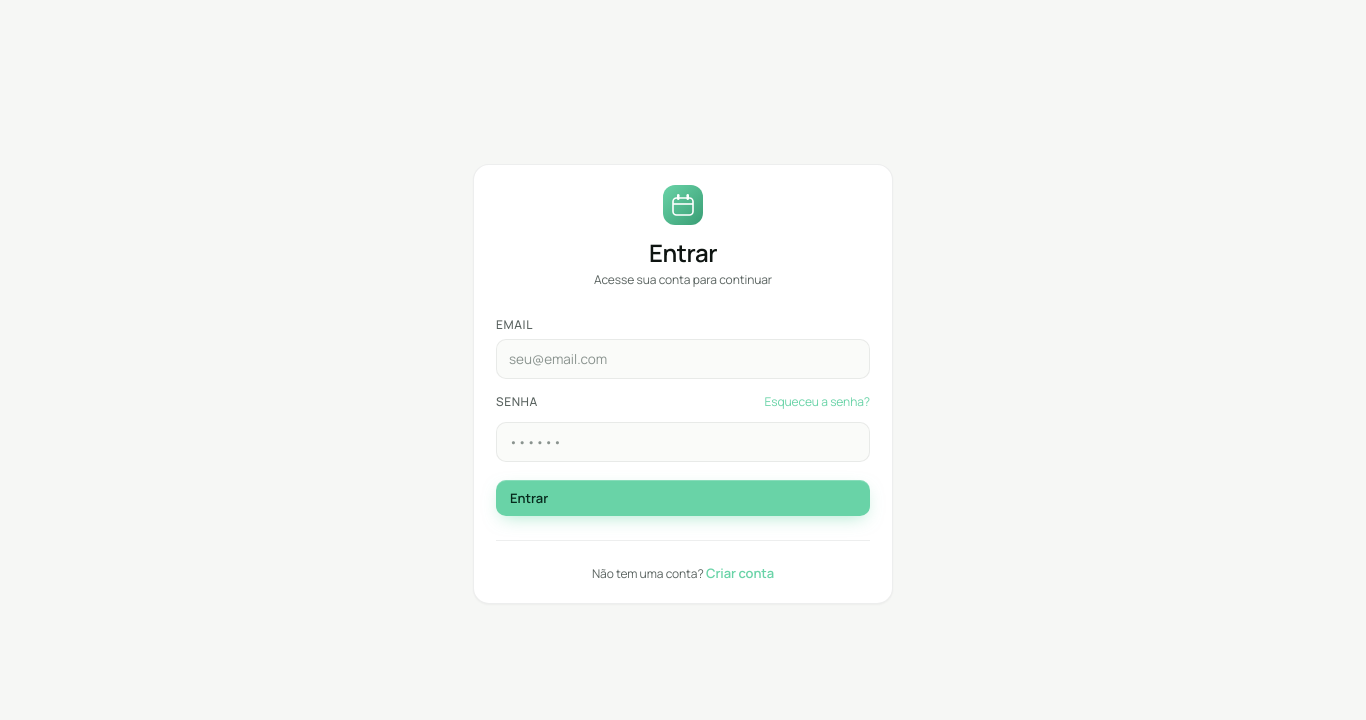
Test: Auth — login › faz login com credenciais válidas e redireciona para o dashboard
This screenshot has width=1366, height=720.
Type "admin@test.com" into the field with placeholder "seu@email.com" at (683, 359), box left=496, top=339, right=870, bottom=379
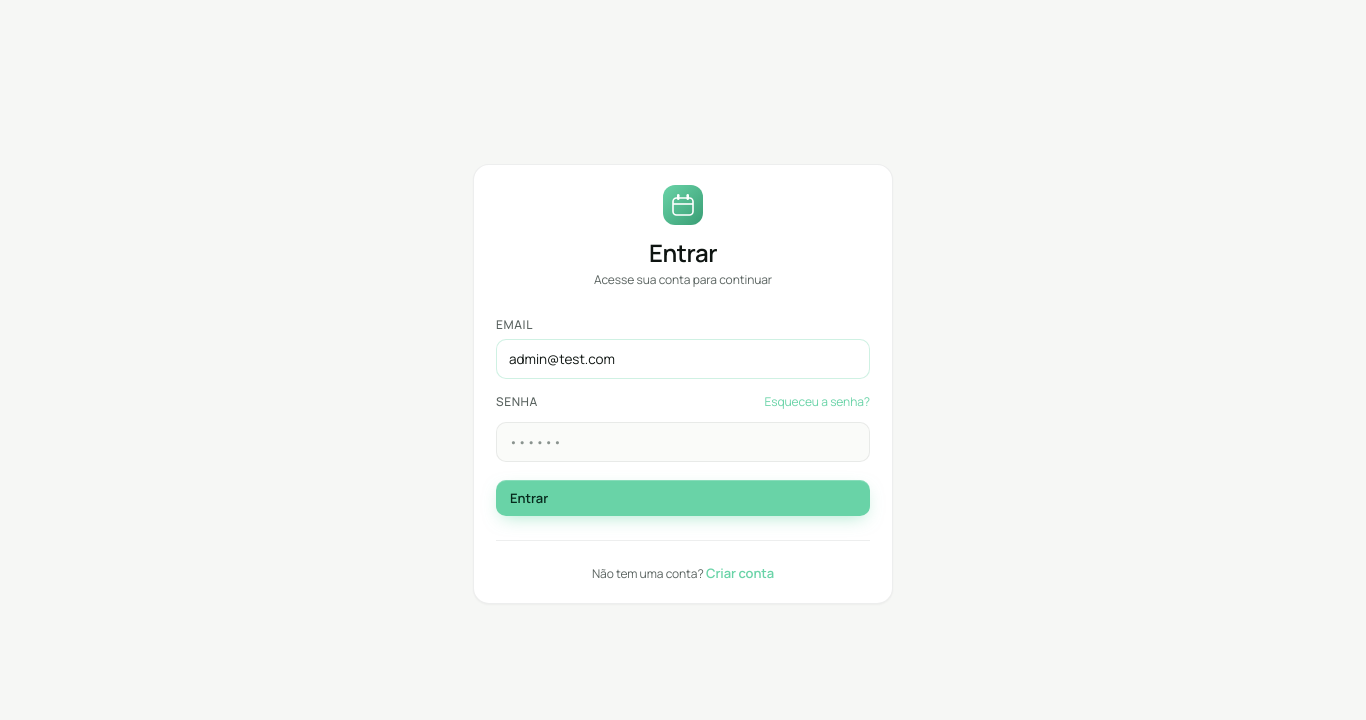
Type "senha123" into the password field with placeholder "••••••" at (683, 442), box left=496, top=422, right=870, bottom=462
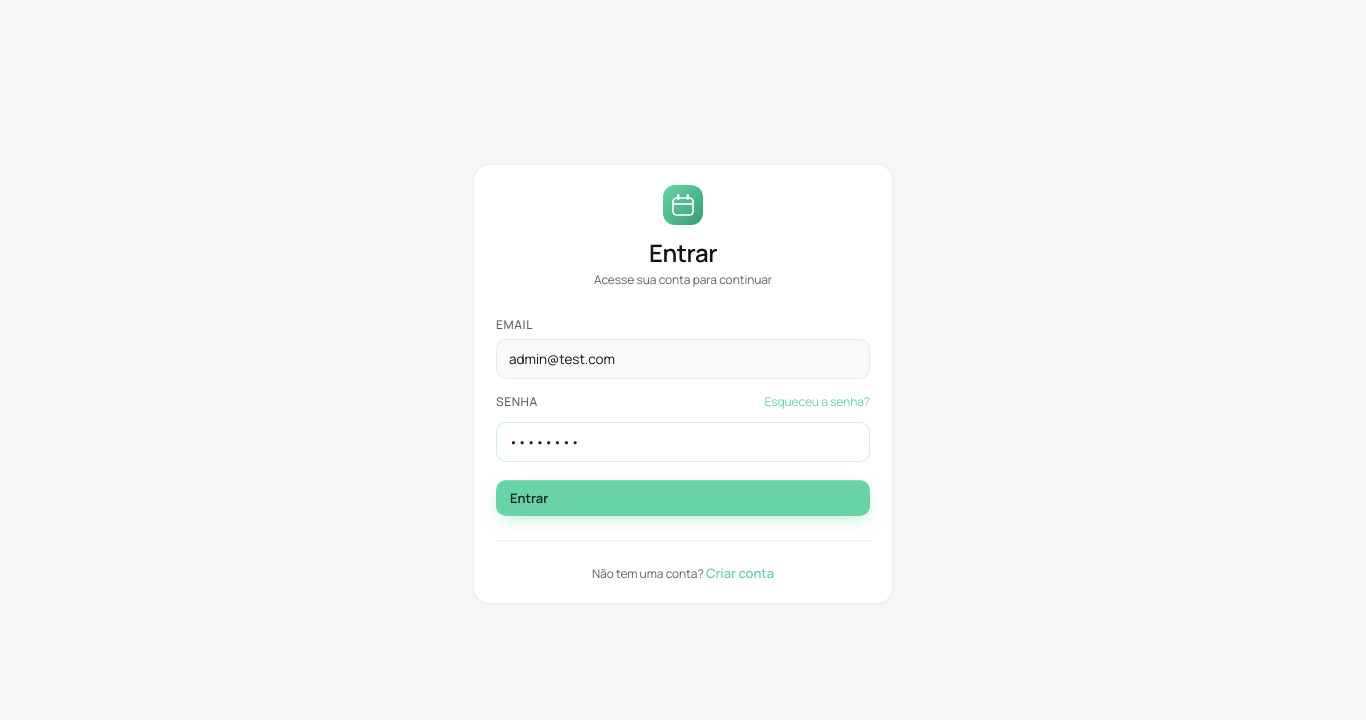
Click the submit button at (529, 498), box left=496, top=480, right=870, bottom=516
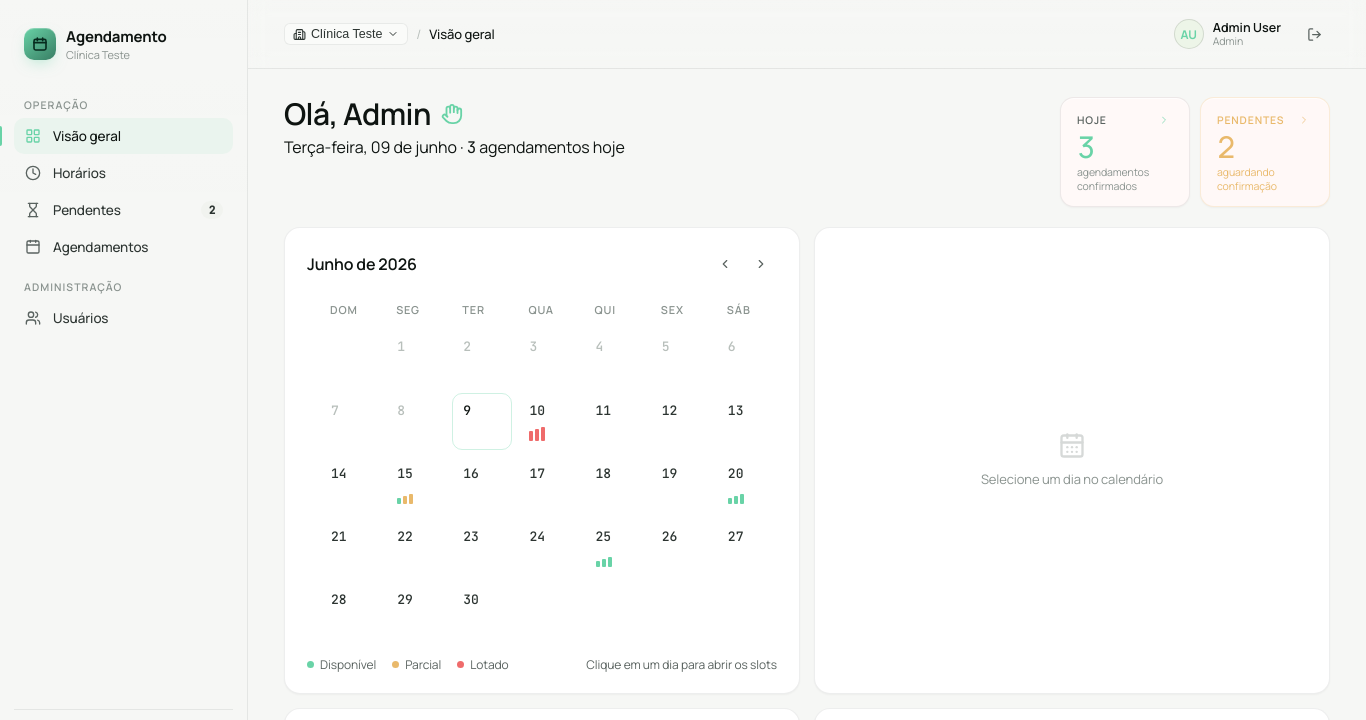
Result: the button "AU Admin User Admin" is shown at left=1168, top=14, right=1290, bottom=54
